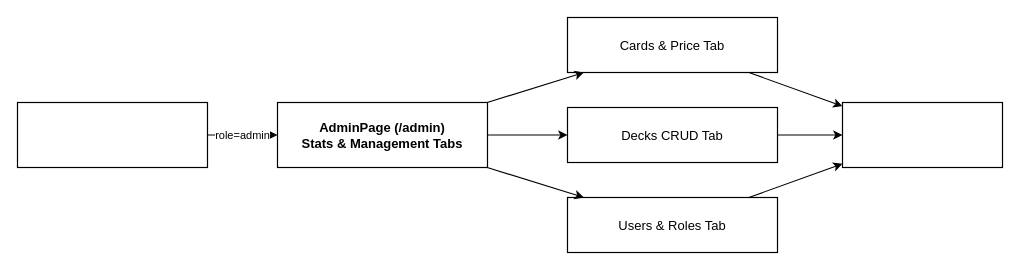
Image size: 1021x271. Some labels were removed from this diagram. The shapes that lost their labels are listed below. From the top down, each one's box as (x1, y1, x2, y2) in pixels, then its label:
(16, 101, 208, 168): AuthPage (/login) Admin JWT
(841, 101, 1003, 168): CRUD Modal Save to DB
